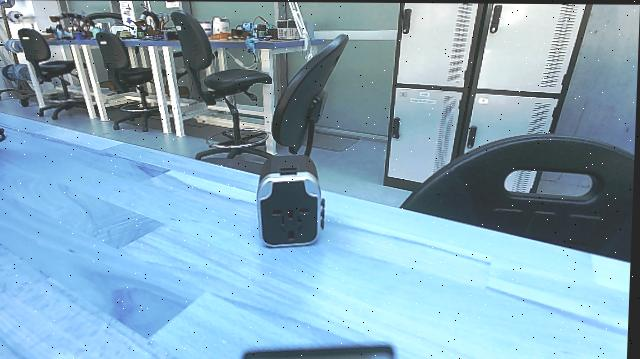adapter: (249, 153, 333, 252)
